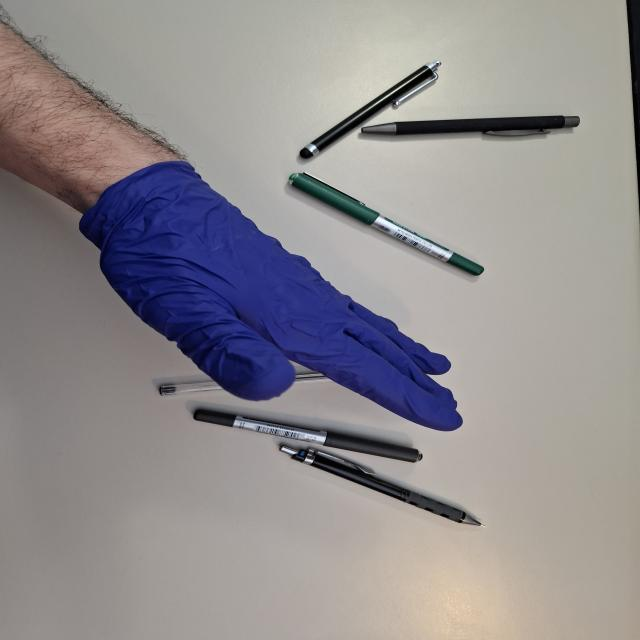glove_on: (75, 154, 467, 434)
